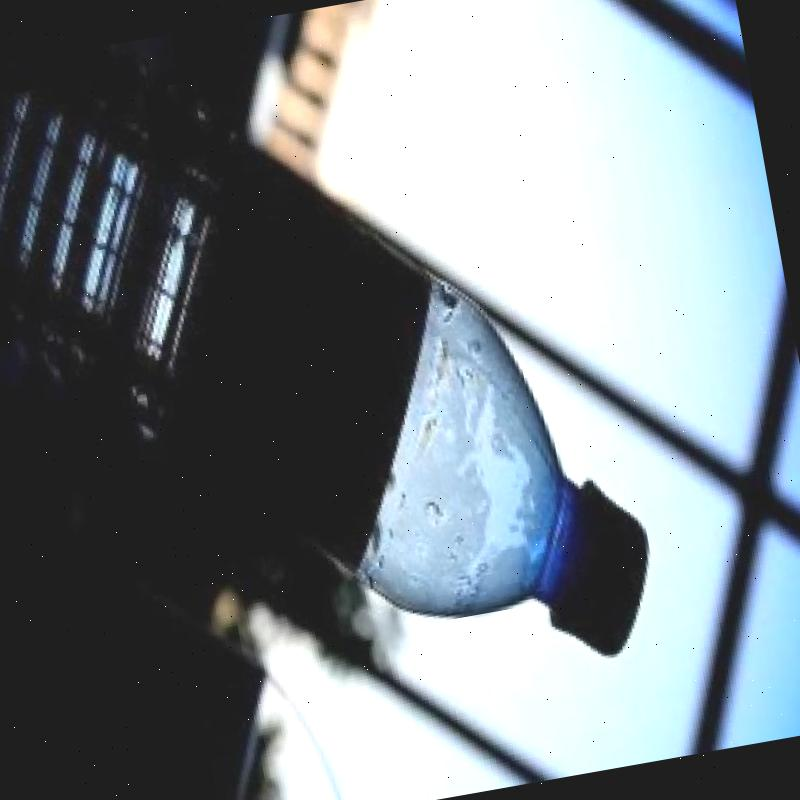botella: (0, 0, 666, 758)
